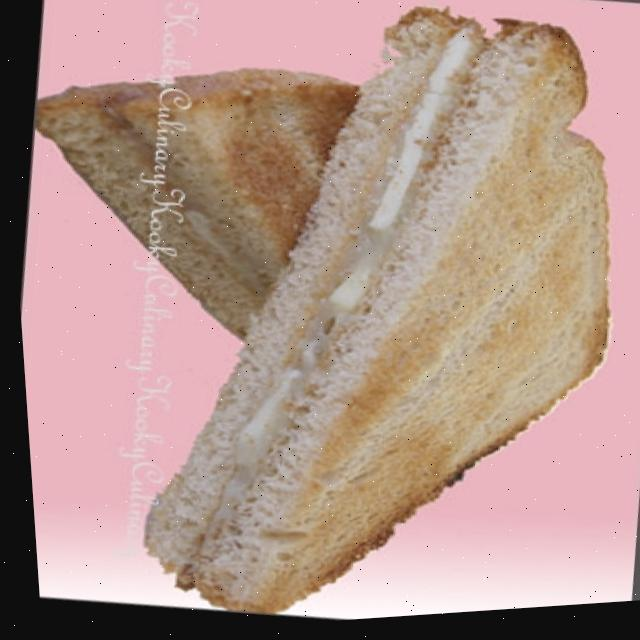面包点心: (16, 0, 640, 639)
